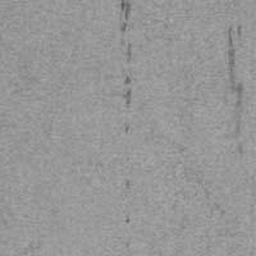Inclusion: (224, 26, 246, 159), (118, 0, 134, 63), (123, 74, 133, 106), (125, 178, 132, 187), (125, 215, 132, 224), (125, 239, 132, 248), (237, 26, 243, 36), (125, 124, 131, 132)
